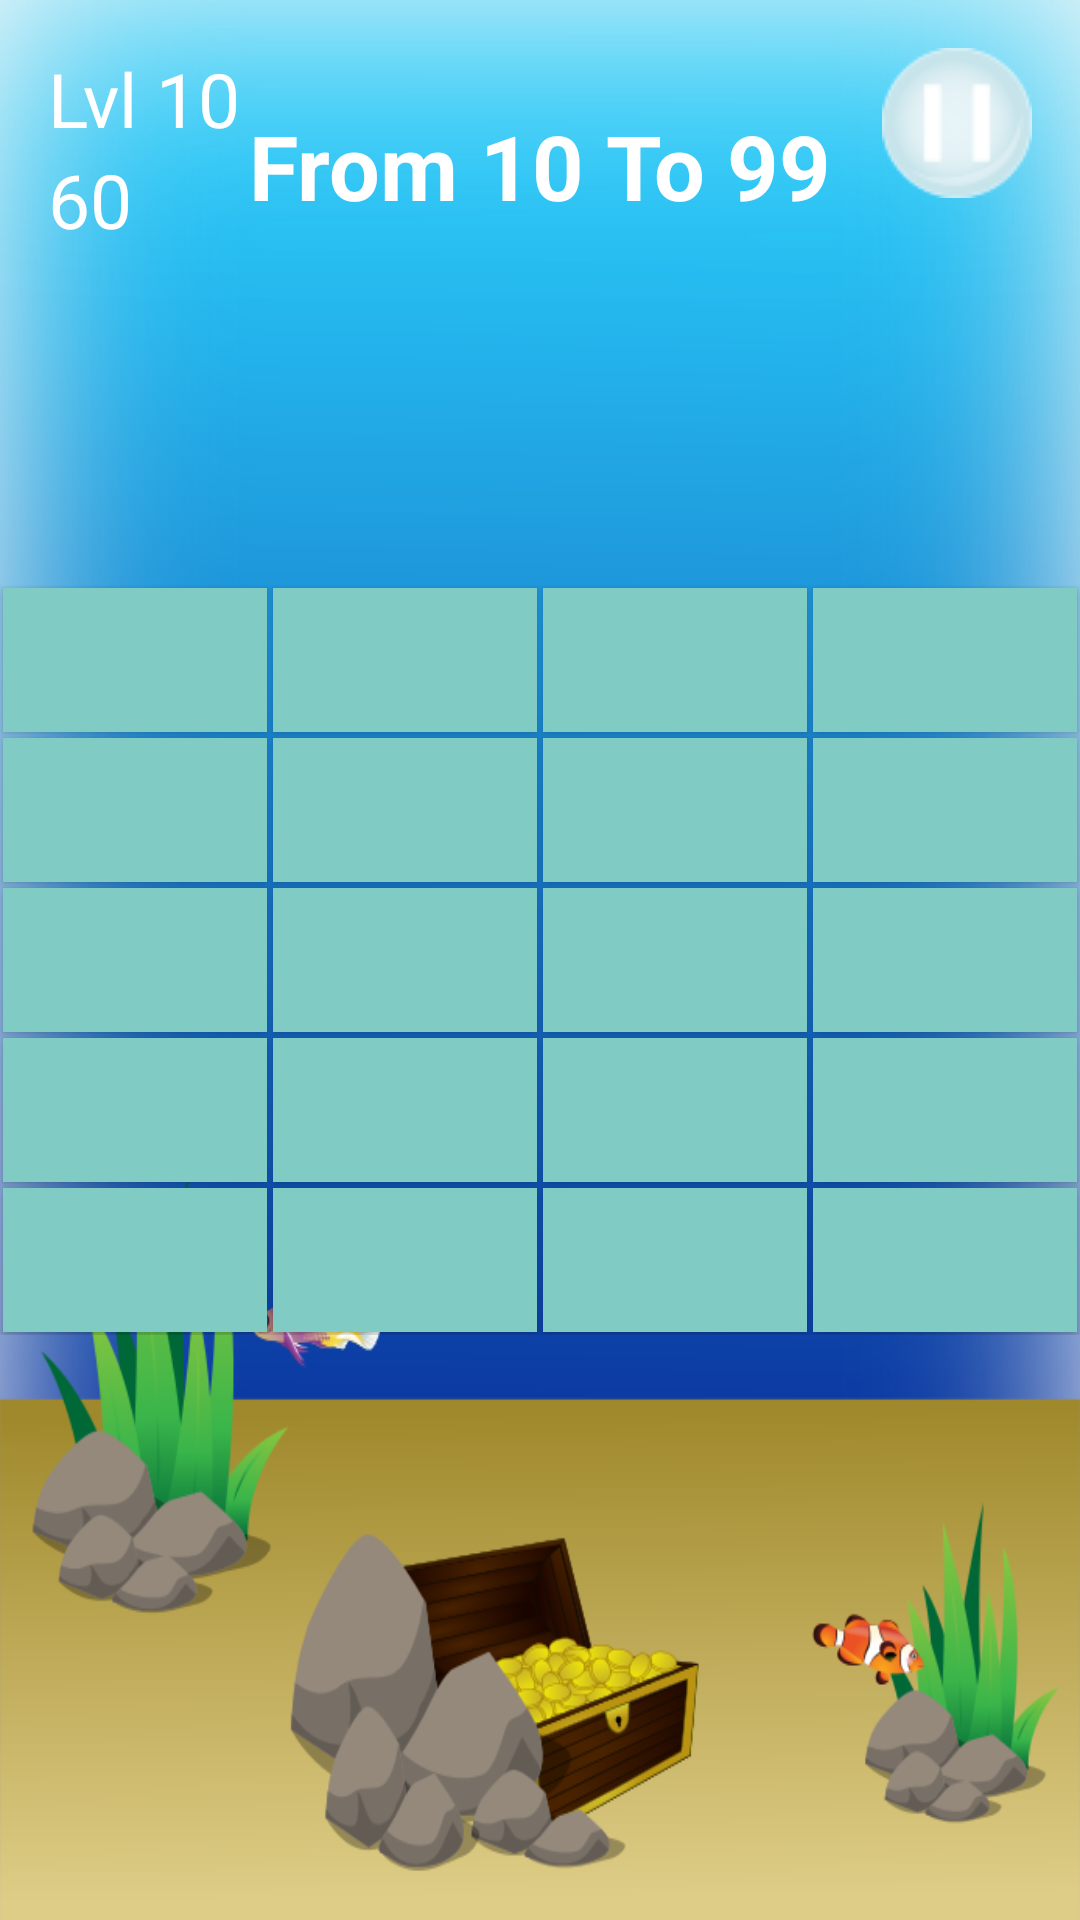

Icons on this 1080w x 1920h Android screen, each with the point to tap as [x,y]:
pause: [957,123]
